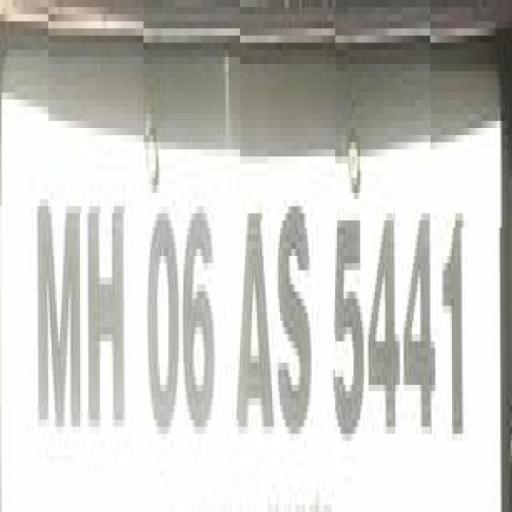number plate: (0, 42, 490, 511)
